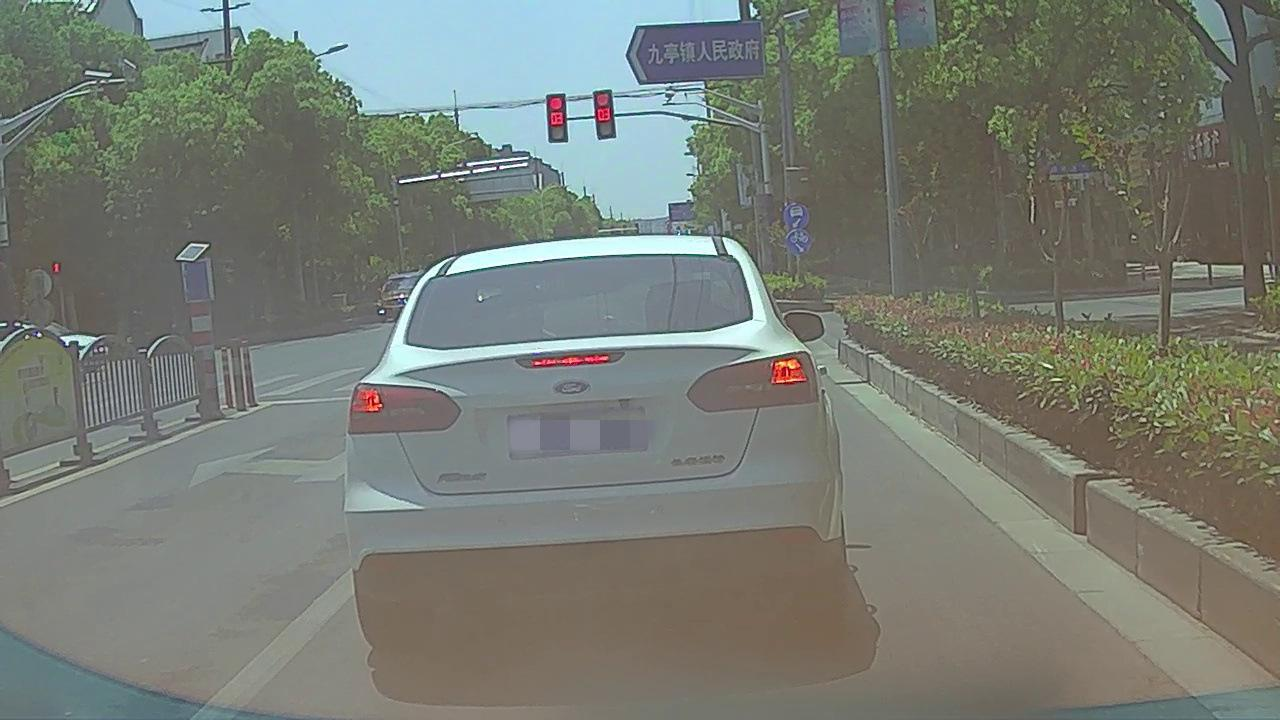traffic_light: (594, 91, 615, 137), (547, 94, 566, 142)
